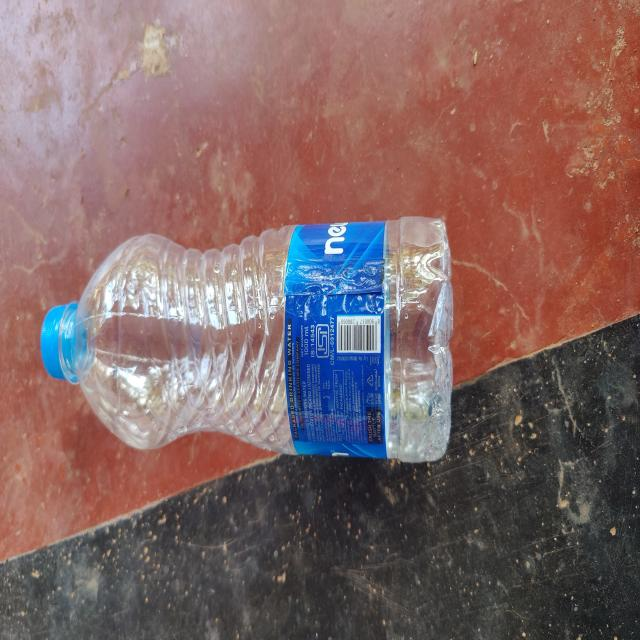plastic: (38, 212, 462, 475)
